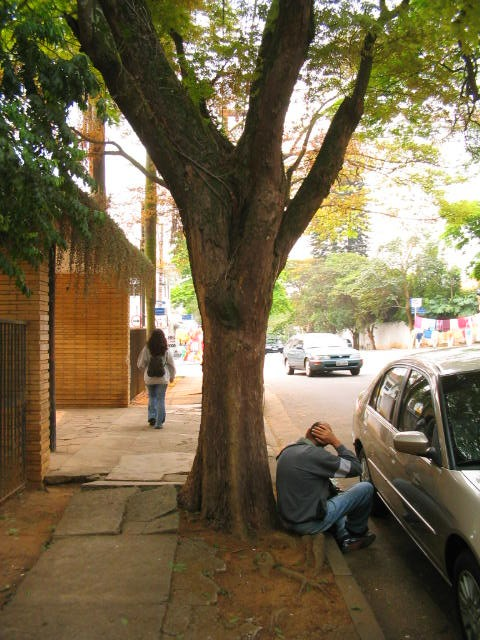crown: (336, 260, 408, 325)
stem: (168, 250, 285, 529), (359, 329, 382, 349)
tree: (334, 259, 409, 349)
